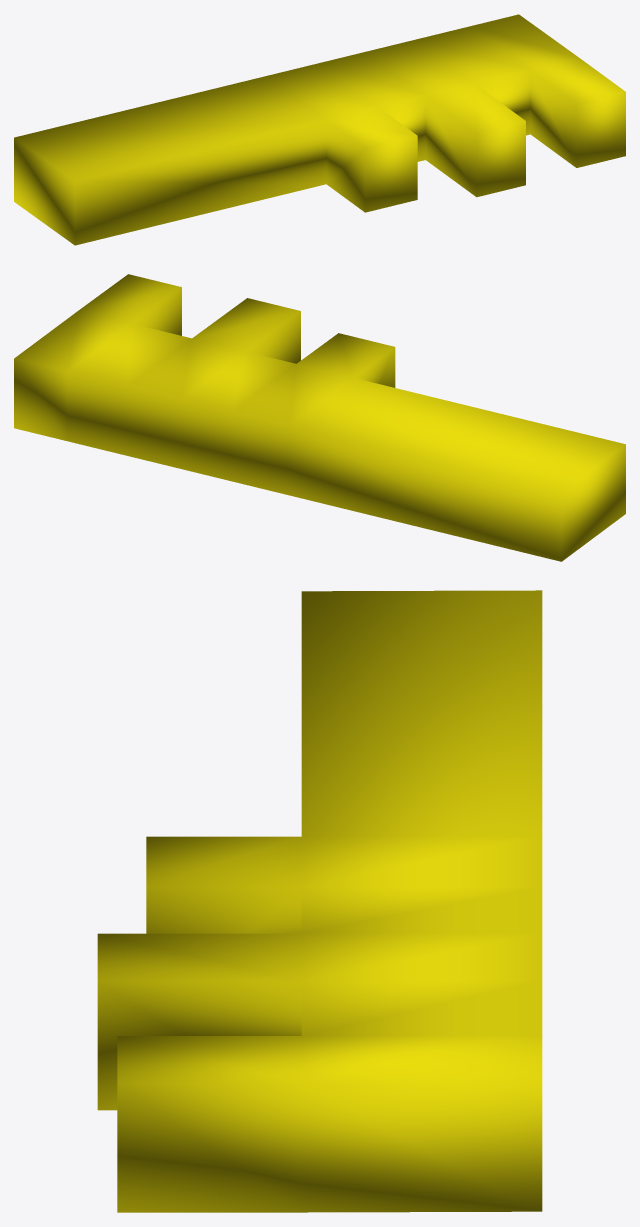
File: key_teeth.glb
3 renders of one model, top to bottom at view 1: azimuth 30°, elevation 25°; view 2: azimuth 150°, elevation 25°; view 3: azimuth 270°, elevation 25°, orthographic. The views are drawn at different scales.
Parts seen in each view (by area): view 1: key_teeth; view 2: key_teeth; view 3: key_teeth.
Boxes of the visible parts, x1=… form: key_teeth: x1=14, y1=14, x2=625, y2=245; key_teeth: x1=14, y1=274, x2=625, y2=561; key_teeth: x1=97, y1=590, x2=542, y2=1212.
Bounding box in the file's own units: 0.5029 × 0.061 × 0.1914.
